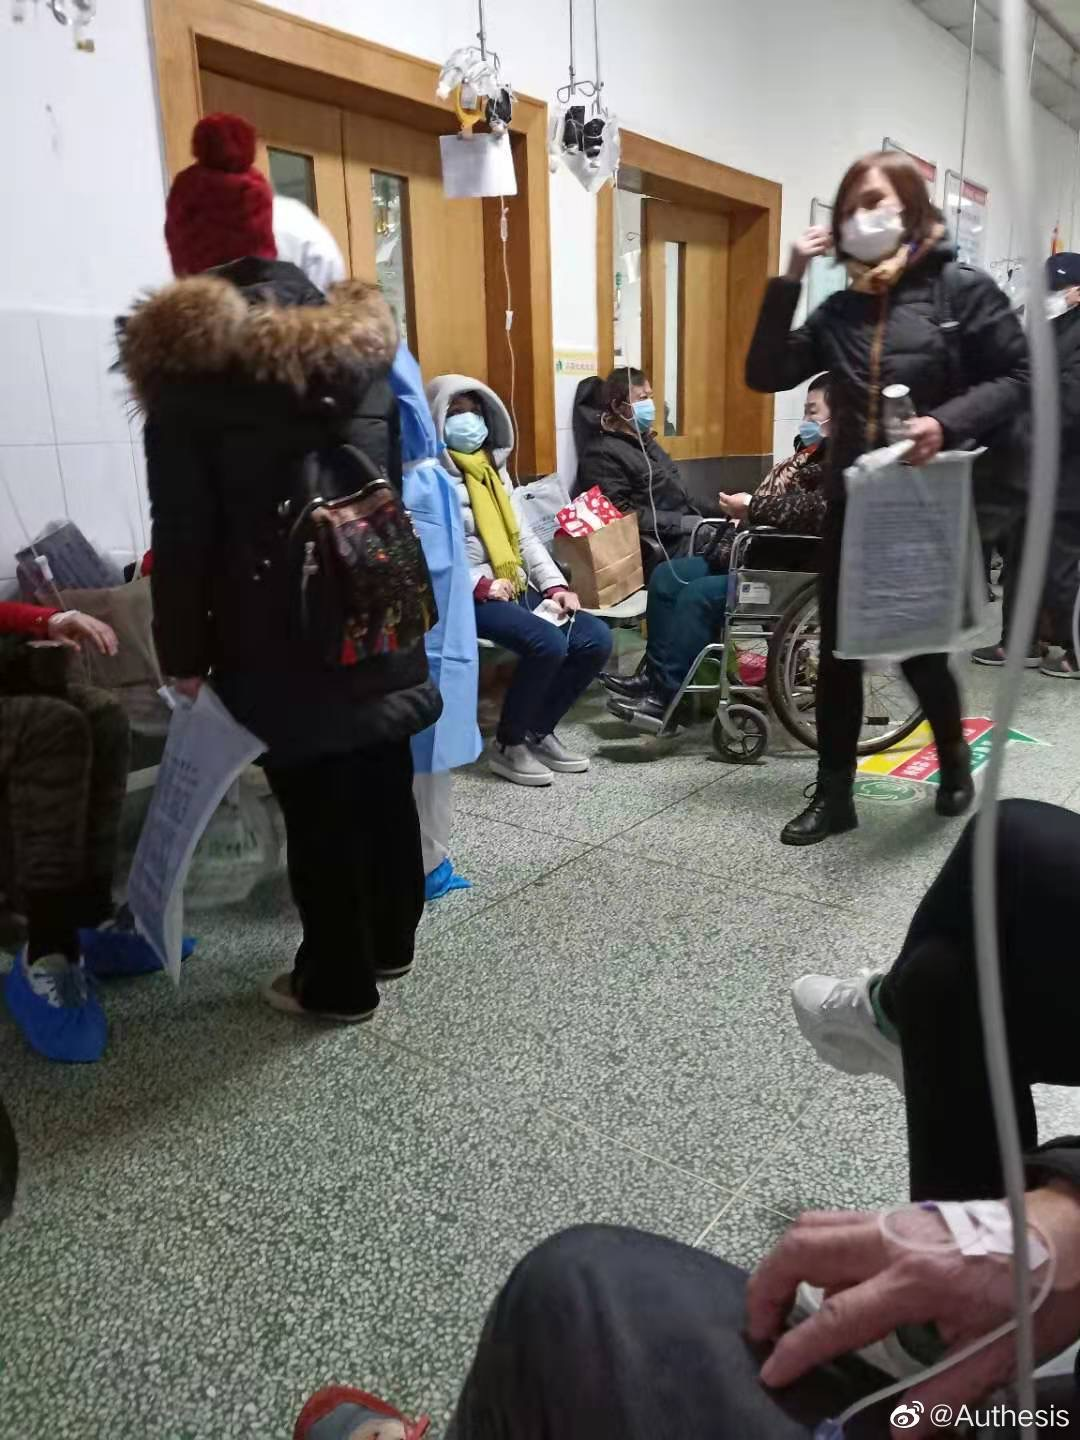rightmask: (828, 145, 942, 277), (422, 379, 514, 473), (602, 367, 660, 444)
